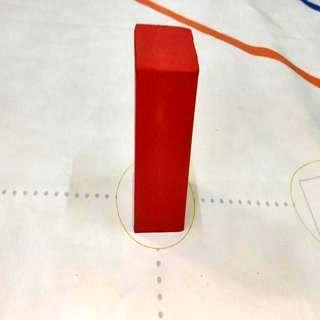redbox: (133, 21, 200, 232)
